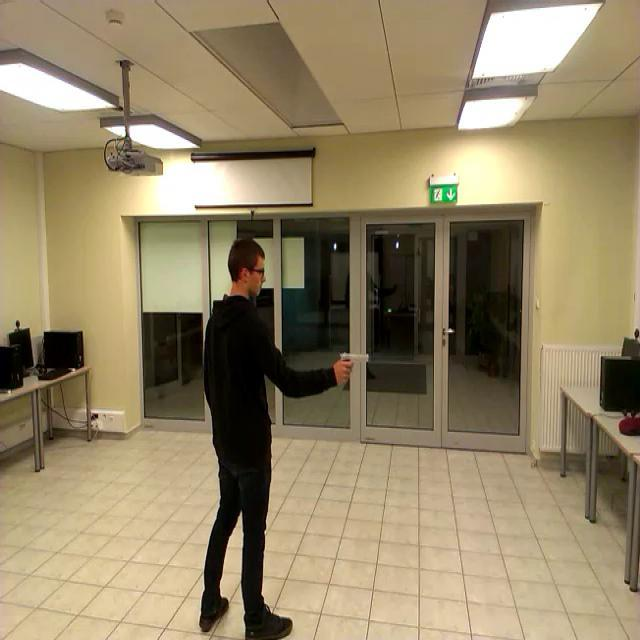Gun: (338, 352, 368, 377)
